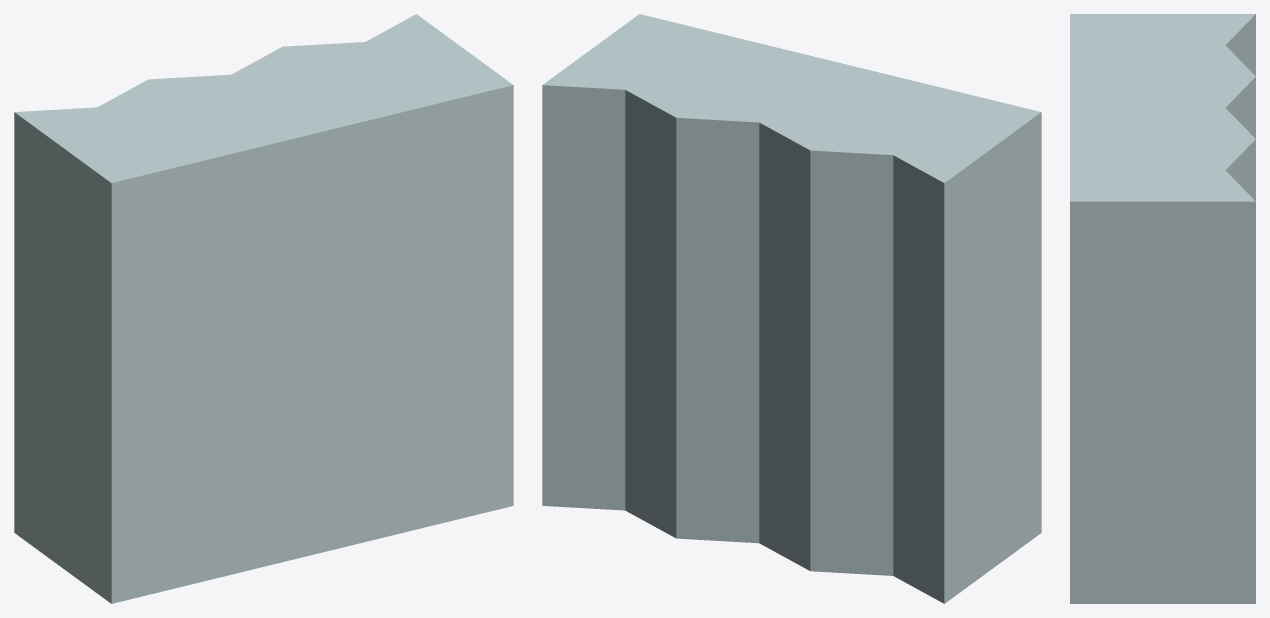
The model's file is cliff-large-stone.glb.
3 views of the same model, side by side, from view 1: azimuth 30°, elevation 25°; view 2: azimuth 150°, elevation 25°; view 3: azimuth 270°, elevation 25° (orthographic). The views are drawn at different scales.
Parts seen in each view (by area): view 1: cliff_large_stone; view 2: cliff_large_stone; view 3: cliff_large_stone.
Part boxes in pixels (bbox=[...]): cliff_large_stone: bbox=[14, 14, 513, 603]; cliff_large_stone: bbox=[542, 14, 1041, 603]; cliff_large_stone: bbox=[1070, 14, 1255, 603].
Bounding box in the file's own units: 1 × 1 × 0.4185.
